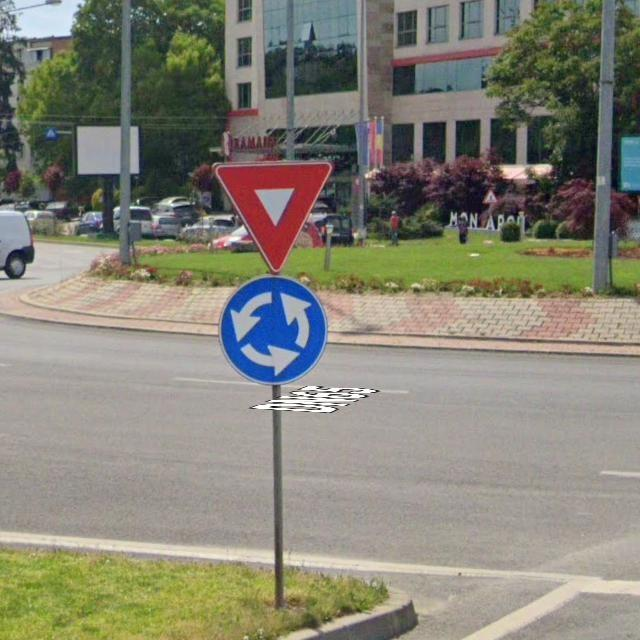prio_give_way: (210, 158, 334, 274)
